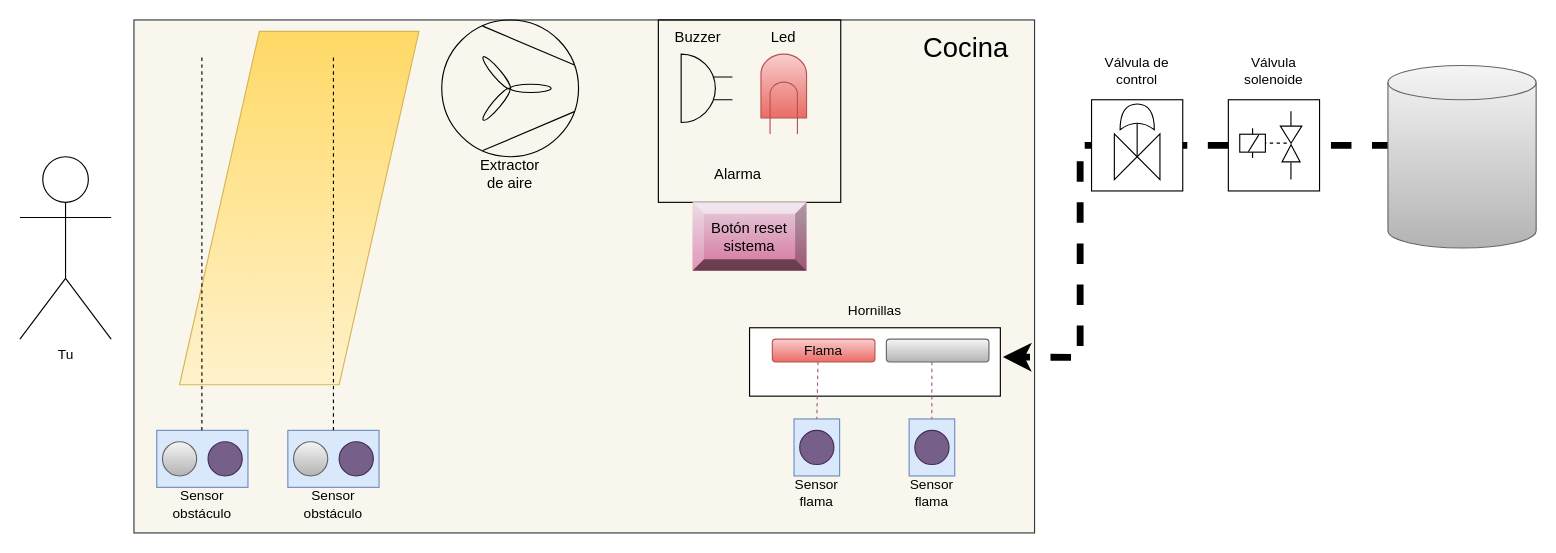
Image size: 1556x553. Some labels were removed from this diagram. Here are the shapes that lost their labels. From the top down, the centre of each, then its label:
the point at 1461,156: Tanque de gas
the point at 298,207: Puerta
